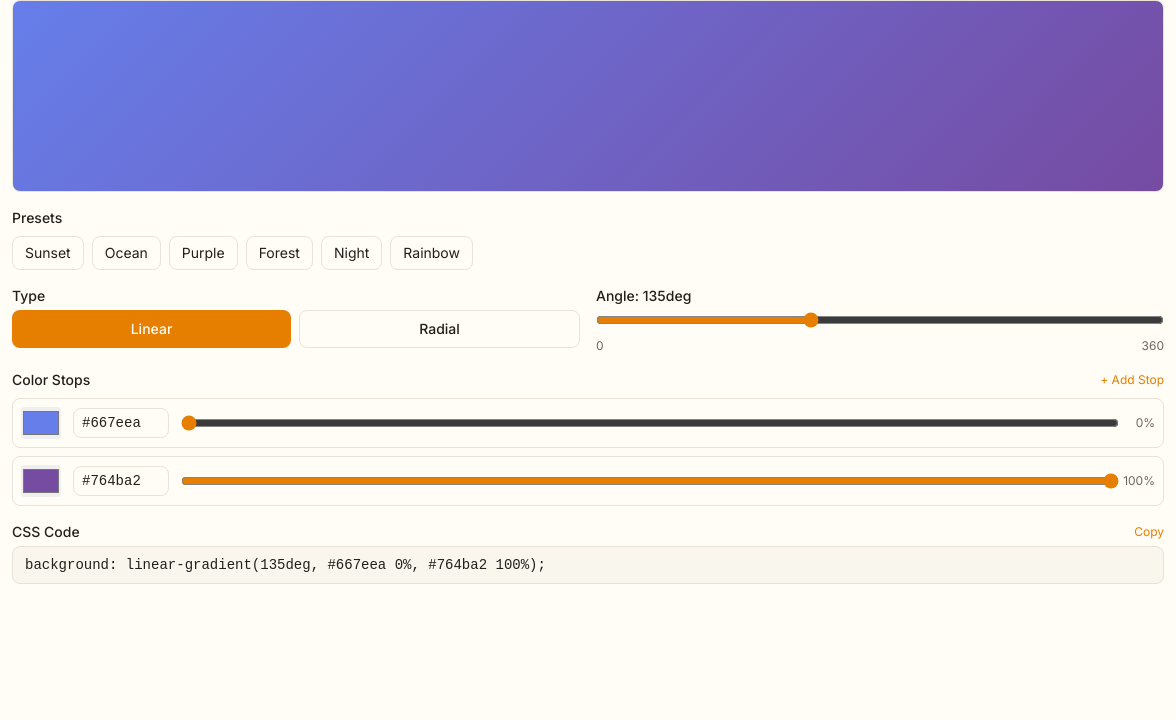
Test case: GradientGenerator › switches back to linear gradient
The width and height of the screenshot is (1176, 720).
Click the button "Radial": {"x": 440, "y": 329} x1=299 y1=310 x2=580 y2=348
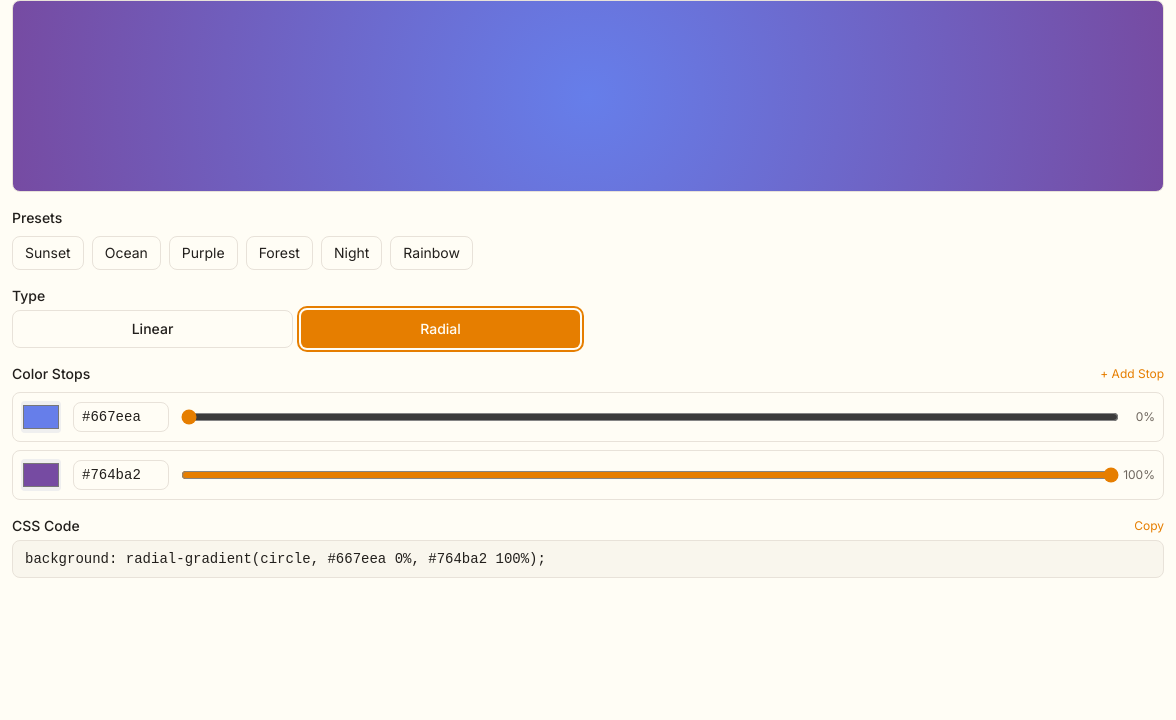
Click the button "Linear": {"x": 152, "y": 329} x1=12 y1=310 x2=293 y2=348
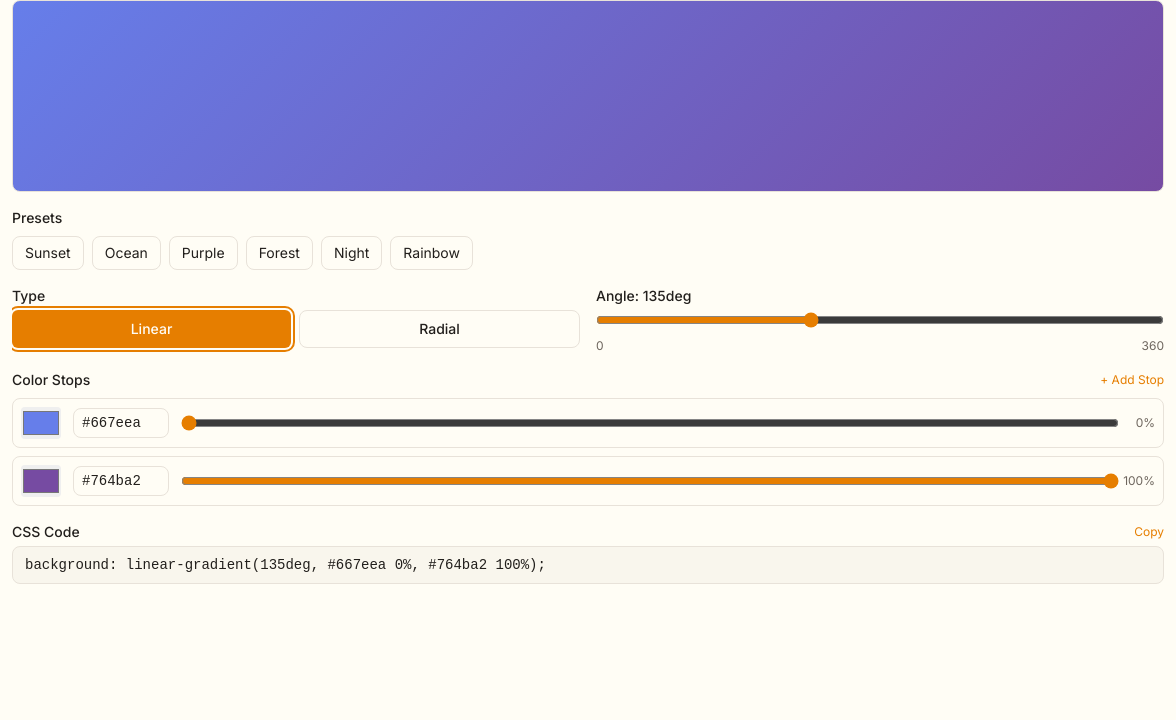
Check: the text "linear-gradient" is shown, box x1=25 y1=557 x2=546 y2=573
